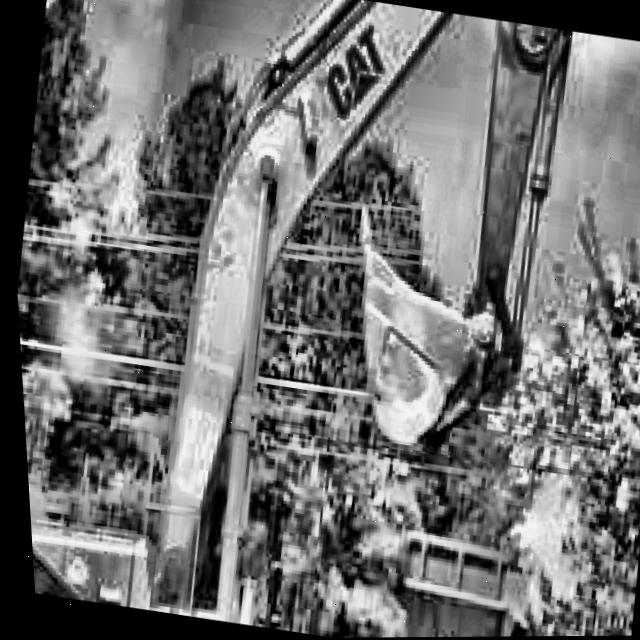excavator: (0, 0, 600, 640)
